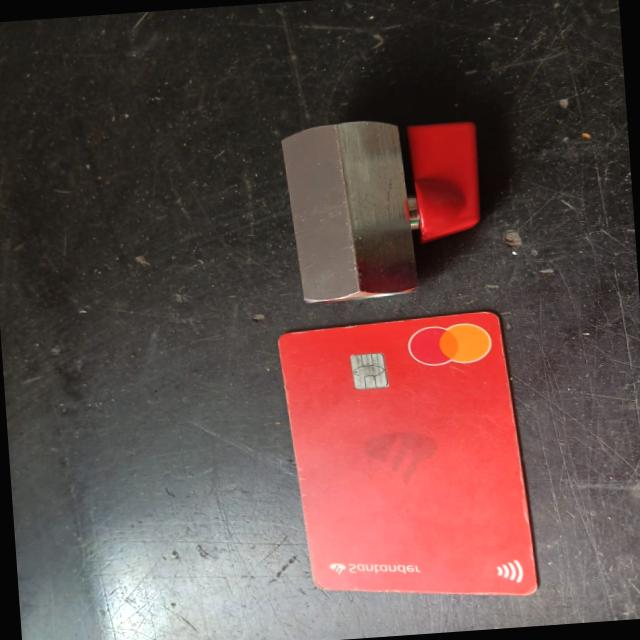cartao: (276, 309, 536, 610)
rosca_interna: (281, 114, 485, 303)
